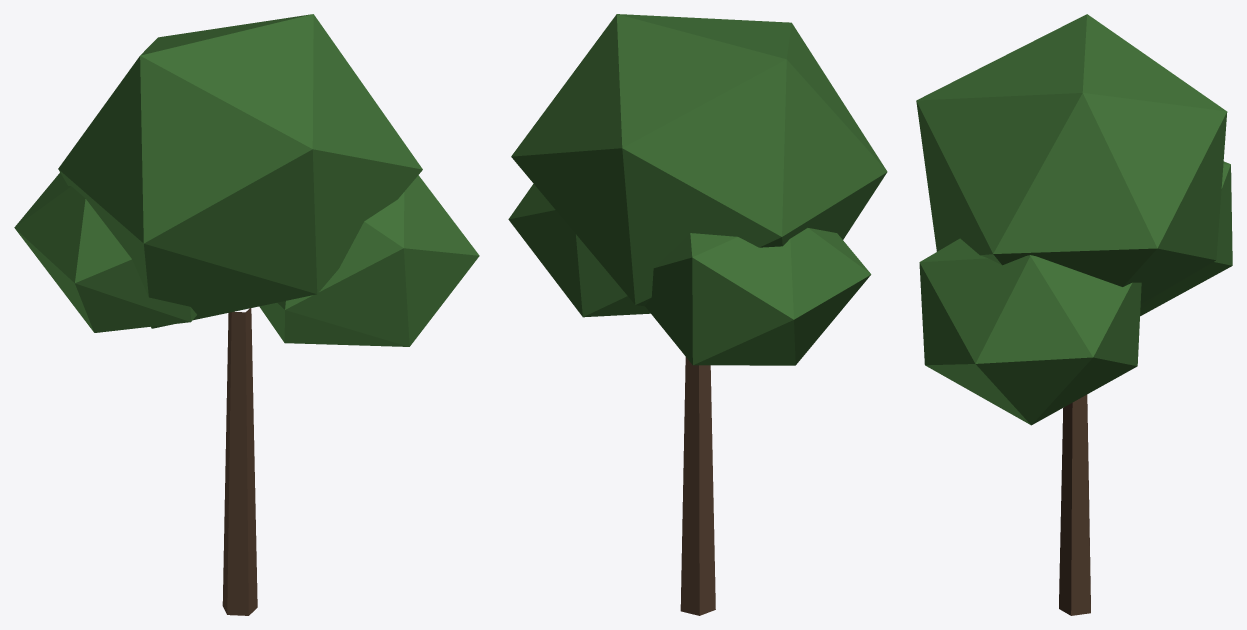
The model's file is street-tree-lo.glb.
3 views of the same model, side by side, from view 1: azimuth 30°, elevation 25°; view 2: azimuth 150°, elevation 25°; view 3: azimuth 270°, elevation 25° (orthographic). The views are drawn at different scales.
Visible parts, largest first — view 1: street_tree_lo; view 2: street_tree_lo; view 3: street_tree_lo.
Part boxes in pixels (x1,y1,x2,y2): street_tree_lo: (14,14,479,615); street_tree_lo: (508,14,887,615); street_tree_lo: (916,14,1232,615).
Size of the model in its own units: 4.46 by 6.86 by 3.56.
